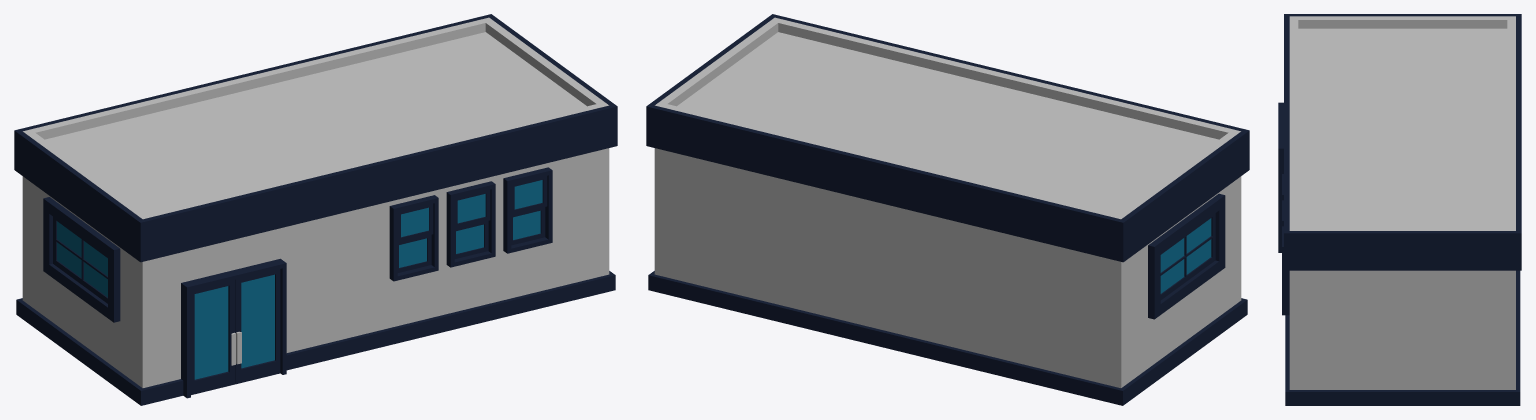
File: supermercado.FBX
3 views of the same model, side by side, from view 1: azimuth 30°, elevation 25°; view 2: azimuth 150°, elevation 25°; view 3: azimuth 270°, elevation 25° (orthographic). The views are drawn at different scales.
Visible parts, largest first — view 1: Box011, Box013, Box012, Tube021, Tube011, Group011, Tube115, Tube014, Tube112, Group045, Group044, Group043 (+3 smaller); view 2: Box011, Tube021, Group011; view 3: Box011, Tube011, Tube115.
Part boxes in pixels (box(x1,y1,x2,y2)): Box011: box(14, 14, 617, 405); Box013: box(235, 269, 280, 384); Box012: box(191, 280, 235, 394); Tube021: box(43, 197, 120, 322); Tube011: box(181, 258, 286, 398); Group011: box(53, 216, 107, 303); Tube115: box(503, 167, 552, 253); Tube014: box(389, 195, 438, 281); Tube112: box(446, 181, 495, 267); Group045: box(513, 180, 542, 239); Group044: box(456, 194, 485, 253); Group043: box(399, 207, 428, 267); Box011: box(646, 14, 1249, 405); Tube021: box(1148, 193, 1225, 319); Group011: box(1160, 213, 1215, 300); Box011: box(1284, 14, 1521, 405); Tube011: box(1278, 102, 1283, 252); Tube115: box(1282, 226, 1289, 315).
Size of the model in its own units: 365 by 134 by 171.
